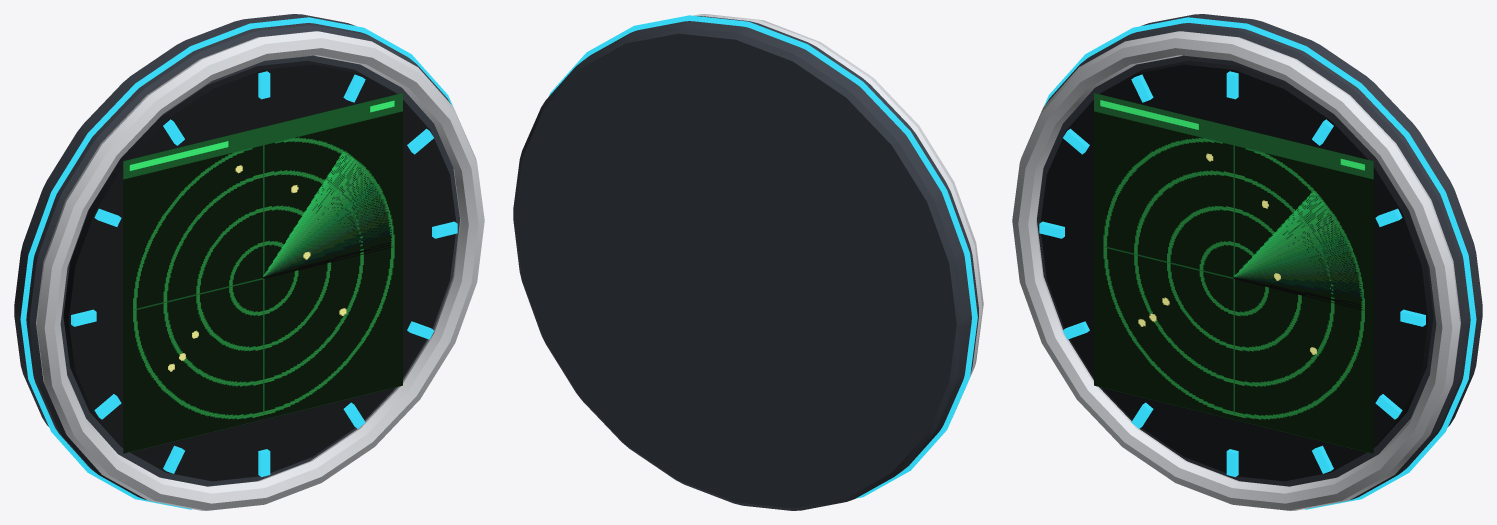
Rendered from display_circular_display.glb.
3 renders of one model, left to right at view 1: azimuth 30°, elevation 25°; view 2: azimuth 150°, elevation 25°; view 3: azimuth 330°, elevation 25°, orthographic.
Visible parts, largest first — view 1: display_circular_display; view 2: display_circular_display; view 3: display_circular_display.
Part boxes in pixels (bbox=[...]): display_circular_display: bbox=[14, 14, 484, 510]; display_circular_display: bbox=[513, 14, 983, 510]; display_circular_display: bbox=[1012, 14, 1482, 510].
Size of the model in its own units: 1.02 by 1.02 by 0.115.
Materials: 5 (1 with a texture image).
